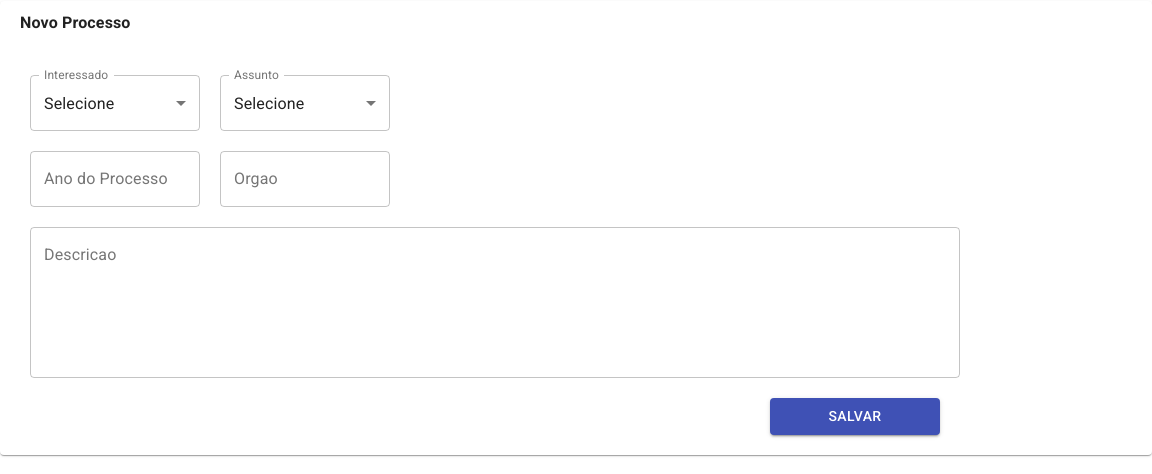
Test: FormProcesso Component › Deve permitir escolher um interessado
Click the button named "Interessado". click: (79, 103)
box: x1=44 y1=94 x2=114 y2=112
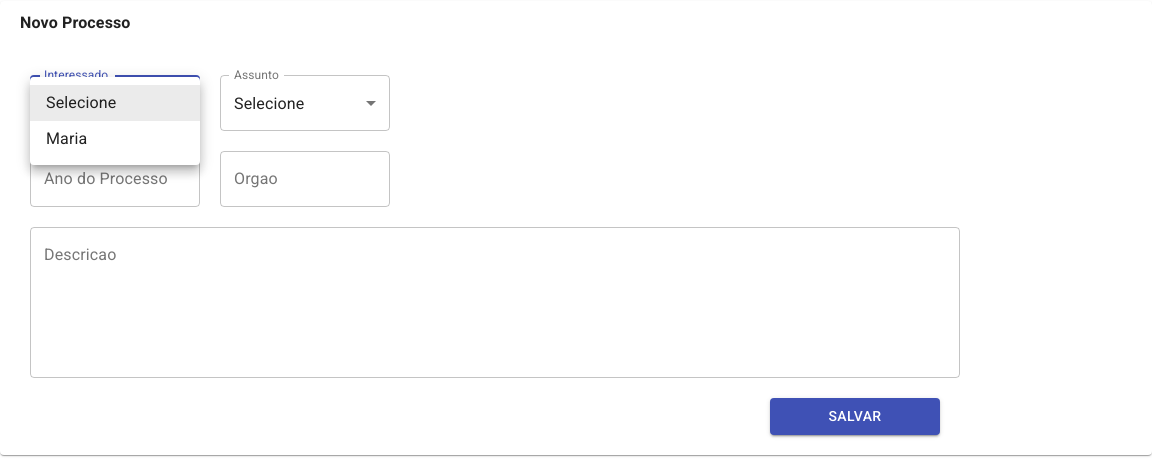
Expected: the option "Maria" is shown, x1=46 y1=129 x2=88 y2=148
